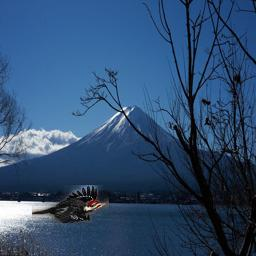Woodpecker: (32, 185, 109, 223)
